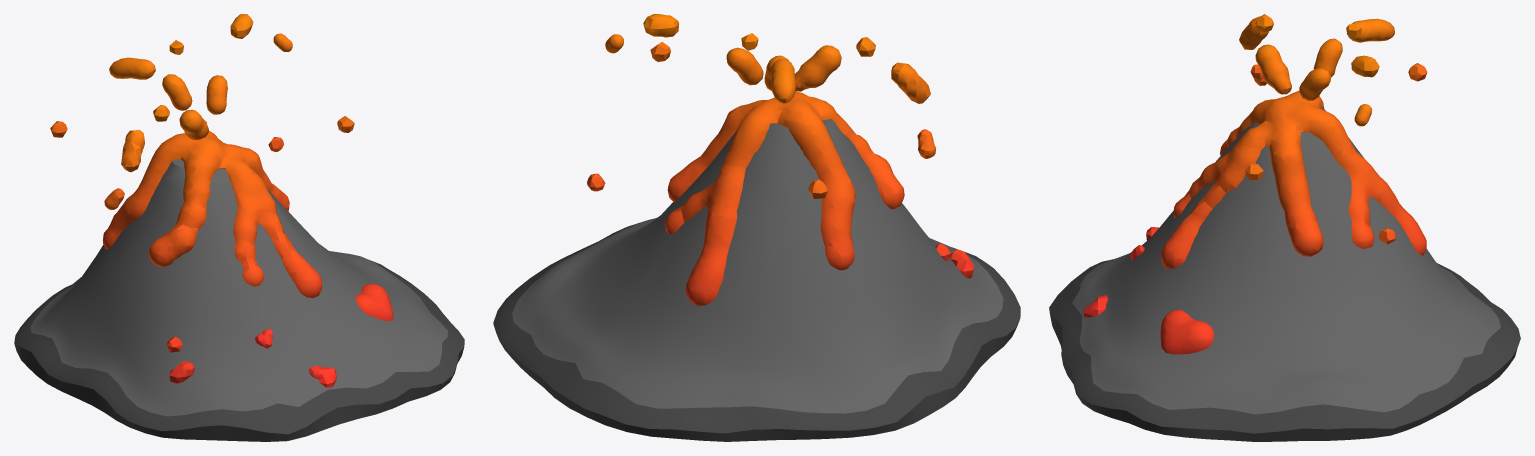
The model's file is volcano.glb.
3 views of the same model, side by side, from view 1: azimuth 30°, elevation 25°; view 2: azimuth 150°, elevation 25°; view 3: azimuth 270°, elevation 25° (orthographic). The views are drawn at different scales.
Parts seen in each view (by area): view 1: Cube.458; view 2: Cube.458; view 3: Cube.458.
Part boxes in pixels (<box>): Cube.458: <box>14,14,464,441</box>; Cube.458: <box>493,14,1020,441</box>; Cube.458: <box>1049,14,1520,441</box>.
Size of the model in its own units: 2.33 by 1.79 by 2.44.
Materials: 1 (1 with a texture image).
